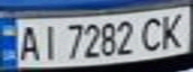2: (115, 17, 142, 56), (81, 19, 103, 60)
7: (60, 20, 84, 61)
8: (100, 19, 121, 58)
A: (15, 23, 42, 62)
C: (136, 14, 166, 52)
I: (36, 21, 60, 61)
K: (154, 10, 190, 49)
